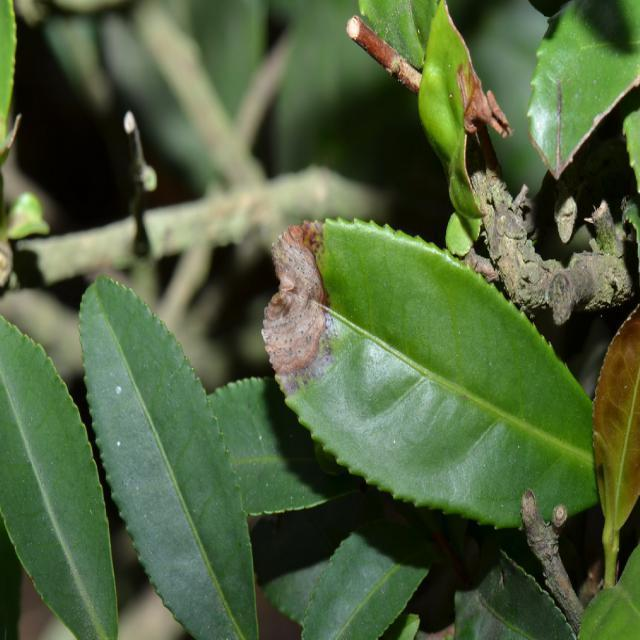Tea cloud leaf blight: (256, 210, 341, 392)
